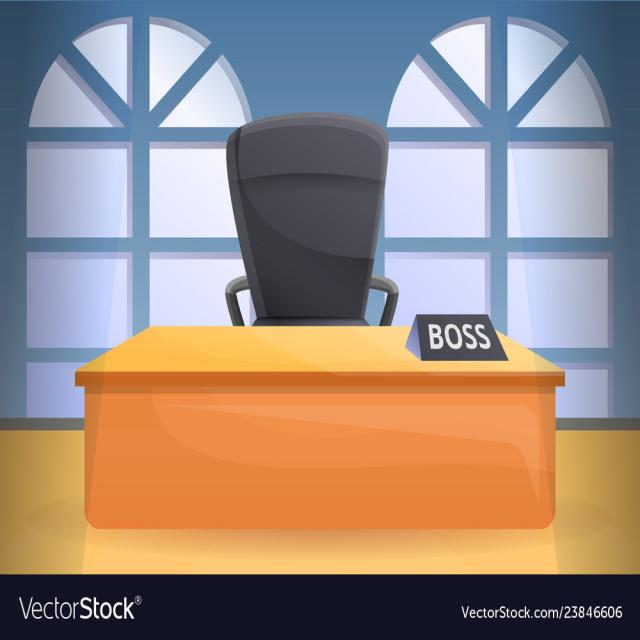chair: (224, 111, 399, 326)
